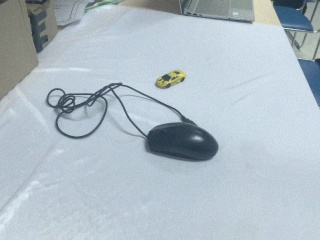mouse: (146, 122, 219, 162)
toy_car: (152, 66, 186, 90)
